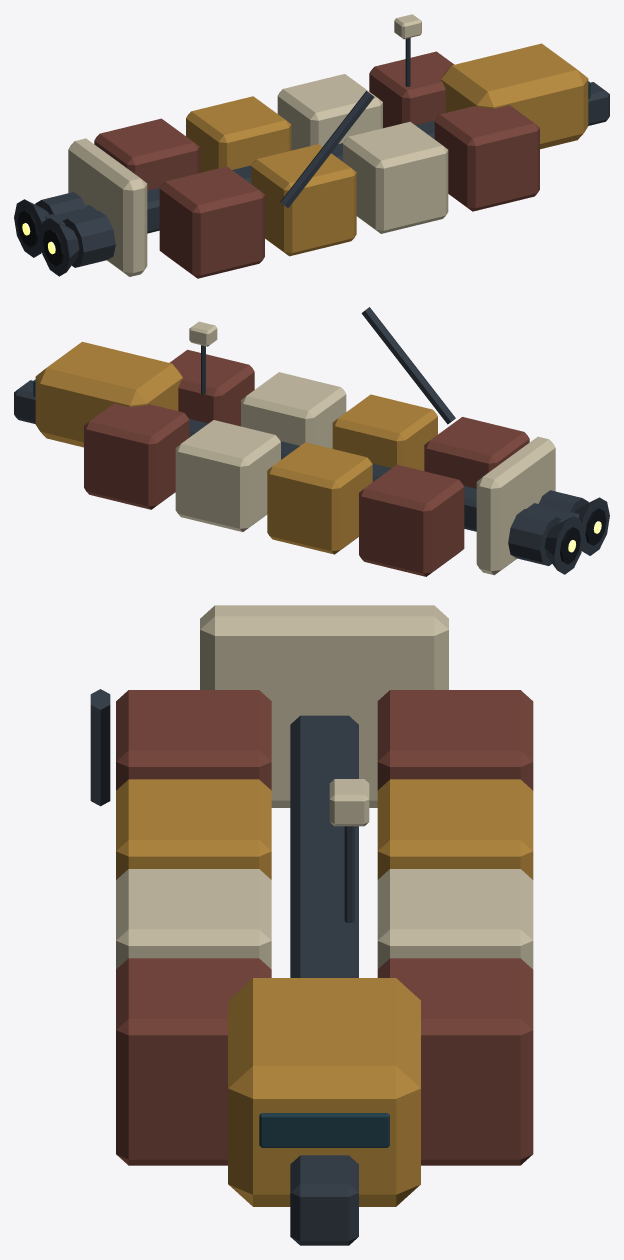
File: long-ton.glb
3 renders of one model, top to bottom at view 1: azimuth 30°, elevation 25°; view 2: azimuth 150°, elevation 25°; view 3: azimuth 270°, elevation 25°, orthographic. The views are drawn at different scales.
Parts seen in each view (by area): view 1: freight container, forward command, freight container.002, freight container.003, freight container.001, reactor shield, freight container.005, freight container.006, freight container.004, freight container.007, structural spine, engine jacket (+7 smaller); view 2: freight container.004, forward command, freight container.006, freight container.005, freight container.007, reactor shield, freight container.001, freight container.002, freight container, freight container.003, structural spine, engine jacket.001 (+7 smaller); view 3: forward command, reactor shield, freight container.007, freight container.003, structural spine, freight container.004, freight container.006, freight container.005, freight container, freight container.001, freight container.002, bridge glazing (+3 smaller).
Part boxes in pixels (box(x1,y1,x2,y2)): freight container: box(159, 166, 264, 278); forward command: box(441, 43, 588, 149); freight container.002: box(343, 121, 448, 233); freight container.003: box(434, 105, 539, 211); freight container.001: box(251, 144, 356, 256); reactor shield: box(68, 138, 147, 276); freight container.005: box(186, 96, 291, 172); freight container.006: box(277, 74, 382, 150); freight container.004: box(94, 118, 199, 190); freight container.007: box(369, 51, 454, 128); structural spine: box(45, 82, 609, 233); engine jacket: box(62, 211, 115, 267); freight container.004: box(359, 464, 464, 576); forward command: box(35, 341, 182, 447); freight container.006: box(175, 420, 280, 531); freight container.005: box(267, 442, 372, 554); freight container.007: box(84, 403, 189, 509); reactor shield: box(476, 436, 555, 575); freight container.001: box(332, 394, 437, 470); freight container.002: box(241, 372, 346, 448); freight container: box(424, 417, 529, 488); freight container.003: box(169, 349, 254, 426); structural spine: box(14, 380, 579, 531); engine jacket.001: box(508, 509, 561, 565); forward command: box(228, 978, 420, 1206); reactor shield: box(200, 605, 448, 807); freight container.007: box(377, 958, 533, 1165); freight container.003: box(116, 958, 271, 1165); structural spine: box(290, 715, 358, 1245); freight container.004: box(377, 690, 533, 790); freight container.006: box(377, 869, 533, 969); freight container.005: box(377, 779, 533, 879); freight container: box(116, 690, 271, 790); freight container.001: box(116, 779, 271, 879); freight container.002: box(116, 869, 271, 969); bridge glazing: box(259, 1113, 389, 1147).
Bounding box in the file's own units: 10.49 × 2.79 × 3.55.
